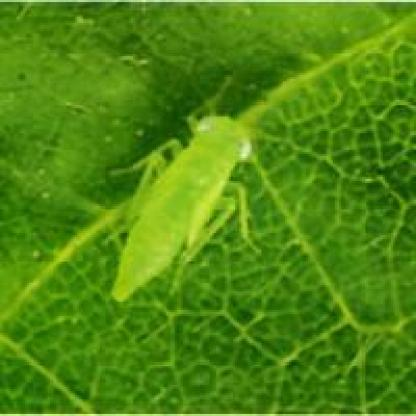Green-Leafhopper: (96, 76, 269, 312)
